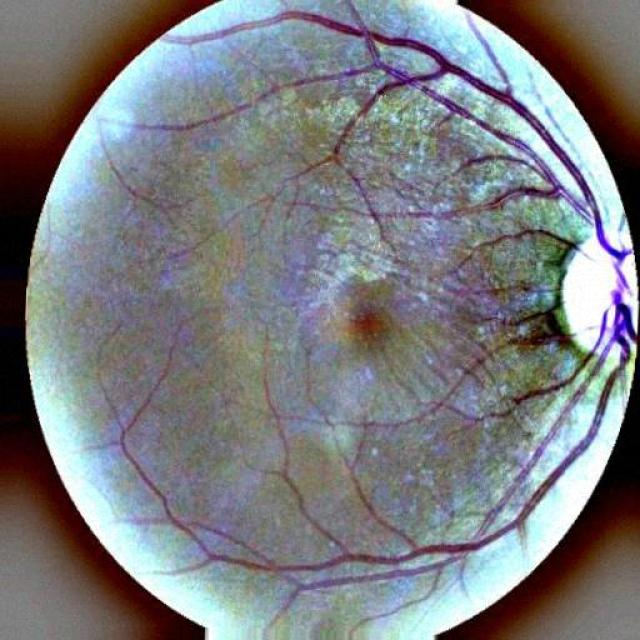Macula: (346, 288, 386, 355)
Nerves: (120, 350, 628, 589), (165, 10, 594, 201), (385, 39, 631, 280), (481, 285, 636, 528), (430, 55, 561, 159), (332, 25, 421, 162), (435, 95, 514, 142), (531, 274, 571, 345), (514, 224, 581, 266)
Optic Disk: (560, 228, 636, 366)
